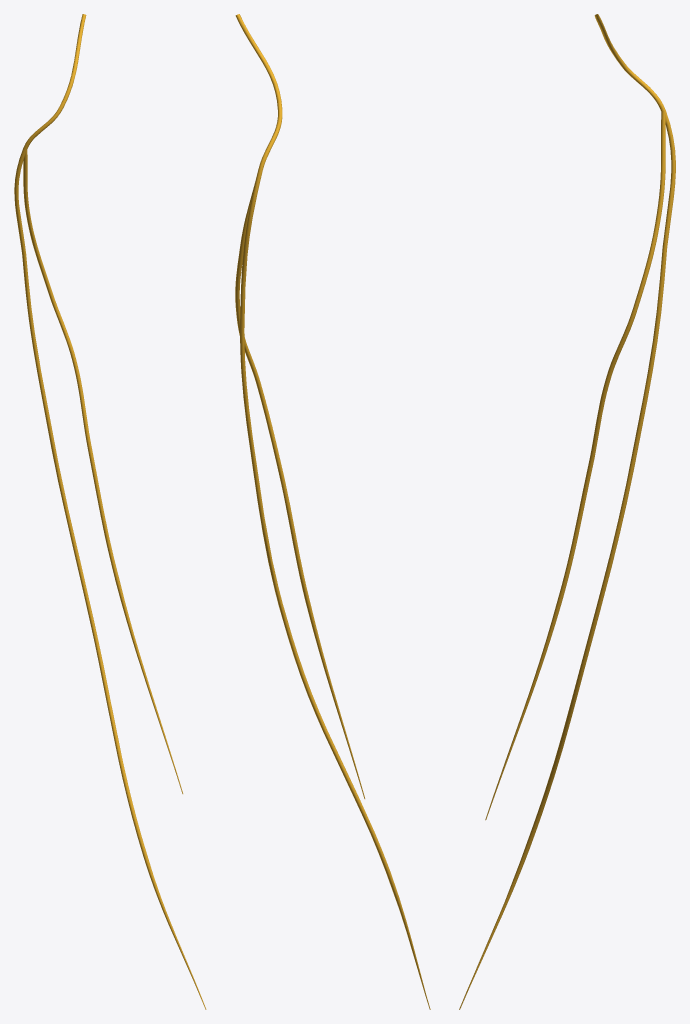
Rendered from nervoso-deep-branch-of-radial-nerve-r.glb.
3 views of the same model, side by side, from view 1: azimuth 90°, elevation 25°; view 2: azimuth 150°, elevation 25°; view 3: azimuth 270°, elevation 25° (orthographic). The views are drawn at different scales.
Parts seen in each view (by area): view 1: Deep branch of radial nerve.r, Posterior interosseous nerve of forearm.r; view 2: Deep branch of radial nerve.r, Posterior interosseous nerve of forearm.r; view 3: Deep branch of radial nerve.r, Posterior interosseous nerve of forearm.r.
Boxes of the visible parts, left/top/right/bottom form: Deep branch of radial nerve.r: left=14, top=14, right=206, bottom=1009; Posterior interosseous nerve of forearm.r: left=23, top=150, right=183, bottom=793; Deep branch of radial nerve.r: left=235, top=14, right=430, bottom=1009; Posterior interosseous nerve of forearm.r: left=235, top=174, right=365, bottom=798; Deep branch of radial nerve.r: left=459, top=14, right=675, bottom=1009; Posterior interosseous nerve of forearm.r: left=485, top=112, right=665, bottom=820.
Size of the model in its own units: 0.0328 by 0.2466 by 0.0457.
